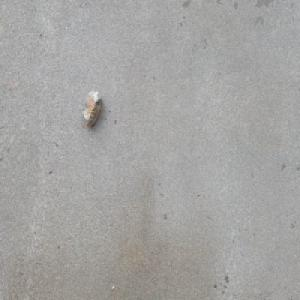Rock: (82, 89, 101, 128)
